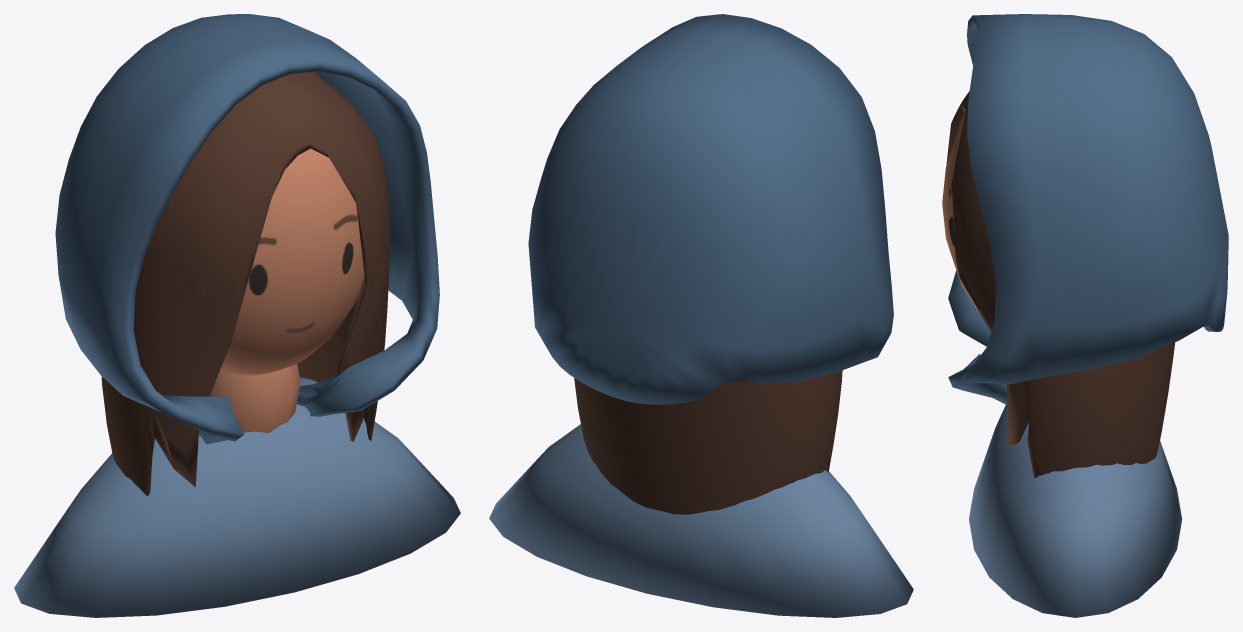
The model's file is traveller_painted.glb.
The picture shows the model from 3 angles, left to right: view 1: azimuth 30°, elevation 25°; view 2: azimuth 150°, elevation 25°; view 3: azimuth 270°, elevation 25°; orthographic projection. The views are drawn at different scales.
Visible parts, largest first — view 1: Hood, TravellerBody, HairCap.Long, Head, Neck; view 2: Hood, TravellerBody, HairCap.Long; view 3: Hood, TravellerBody, HairCap.Long, Head.
Part boxes in pixels (box(x1,y1,x2,y2)): Hood: box(55, 14, 439, 444); TravellerBody: box(14, 377, 460, 617); HairCap.Long: box(101, 72, 390, 495); Head: box(220, 148, 364, 375); Neck: box(209, 364, 300, 433); Hood: box(528, 14, 893, 404); TravellerBody: box(489, 424, 913, 617); HairCap.Long: box(574, 370, 842, 514); Hood: box(948, 14, 1228, 404); TravellerBody: box(969, 404, 1182, 617); HairCap.Long: box(946, 91, 1175, 478); Head: box(942, 117, 979, 312).
Size of the model in its own units: 2.1 by 2.44 by 1.29.
2 materials, 2 textured.
